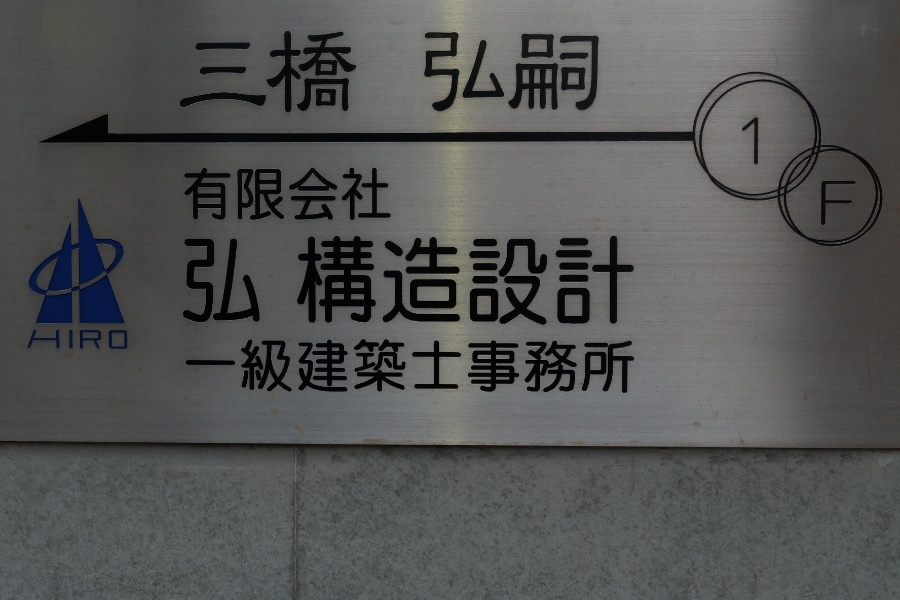text: (305, 224, 320, 328), (321, 224, 336, 328), (337, 224, 352, 328), (353, 224, 368, 328), (369, 224, 384, 328), (385, 224, 400, 328), (401, 224, 416, 328), (417, 224, 432, 328), (433, 224, 448, 328), (449, 224, 464, 328), (465, 224, 480, 328), (481, 224, 496, 328), (497, 224, 512, 328), (513, 224, 528, 328), (529, 224, 544, 328), (545, 224, 560, 328), (561, 224, 576, 328), (577, 224, 592, 328), (593, 224, 608, 328), (609, 224, 624, 328), (625, 224, 639, 328), (193, 233, 208, 330), (209, 233, 224, 330), (225, 233, 240, 330), (241, 233, 256, 330), (193, 27, 208, 115), (209, 27, 224, 115), (225, 27, 240, 115), (241, 27, 256, 115), (257, 27, 272, 115), (273, 27, 288, 115), (289, 27, 304, 115), (305, 27, 320, 115), (321, 27, 336, 115), (337, 27, 352, 115), (433, 29, 448, 116), (449, 29, 464, 116), (465, 29, 480, 116), (481, 29, 496, 116), (497, 29, 512, 116), (513, 29, 528, 116), (529, 29, 544, 116), (545, 29, 560, 116), (561, 29, 576, 116), (577, 29, 592, 116), (180, 233, 192, 330), (180, 27, 192, 115), (593, 29, 605, 116), (421, 29, 432, 116), (257, 233, 266, 330), (193, 339, 208, 397), (209, 339, 224, 397), (225, 339, 240, 397), (241, 339, 256, 397), (257, 339, 272, 397), (273, 339, 288, 397), (289, 339, 304, 397), (305, 339, 320, 397), (321, 339, 336, 397), (337, 339, 352, 397), (353, 339, 368, 397), (369, 339, 384, 397), (385, 339, 400, 397), (401, 339, 416, 397), (417, 339, 432, 397), (433, 339, 448, 397), (449, 339, 464, 397), (465, 339, 480, 397), (481, 339, 496, 397), (497, 339, 512, 397), (513, 339, 528, 397), (529, 339, 544, 397), (545, 339, 560, 397), (561, 339, 576, 397), (577, 339, 592, 397), (593, 339, 608, 397), (609, 339, 624, 397), (193, 167, 208, 224), (209, 167, 224, 224), (225, 167, 240, 224), (241, 167, 256, 224), (257, 167, 272, 224), (273, 167, 288, 224), (289, 167, 304, 224), (305, 167, 320, 224), (321, 167, 336, 224), (337, 167, 352, 224), (353, 167, 368, 224), (369, 167, 384, 224), (353, 27, 362, 115), (833, 177, 848, 228), (297, 224, 304, 328), (818, 177, 832, 228), (180, 167, 192, 224), (385, 167, 397, 224), (741, 111, 752, 166), (625, 339, 635, 397), (753, 111, 762, 166), (849, 177, 858, 228), (33, 326, 48, 355), (49, 326, 64, 355), (65, 326, 80, 355), (81, 326, 96, 355), (97, 326, 112, 355), (113, 326, 128, 355), (188, 339, 192, 397), (30, 326, 32, 355), (129, 326, 131, 355)
